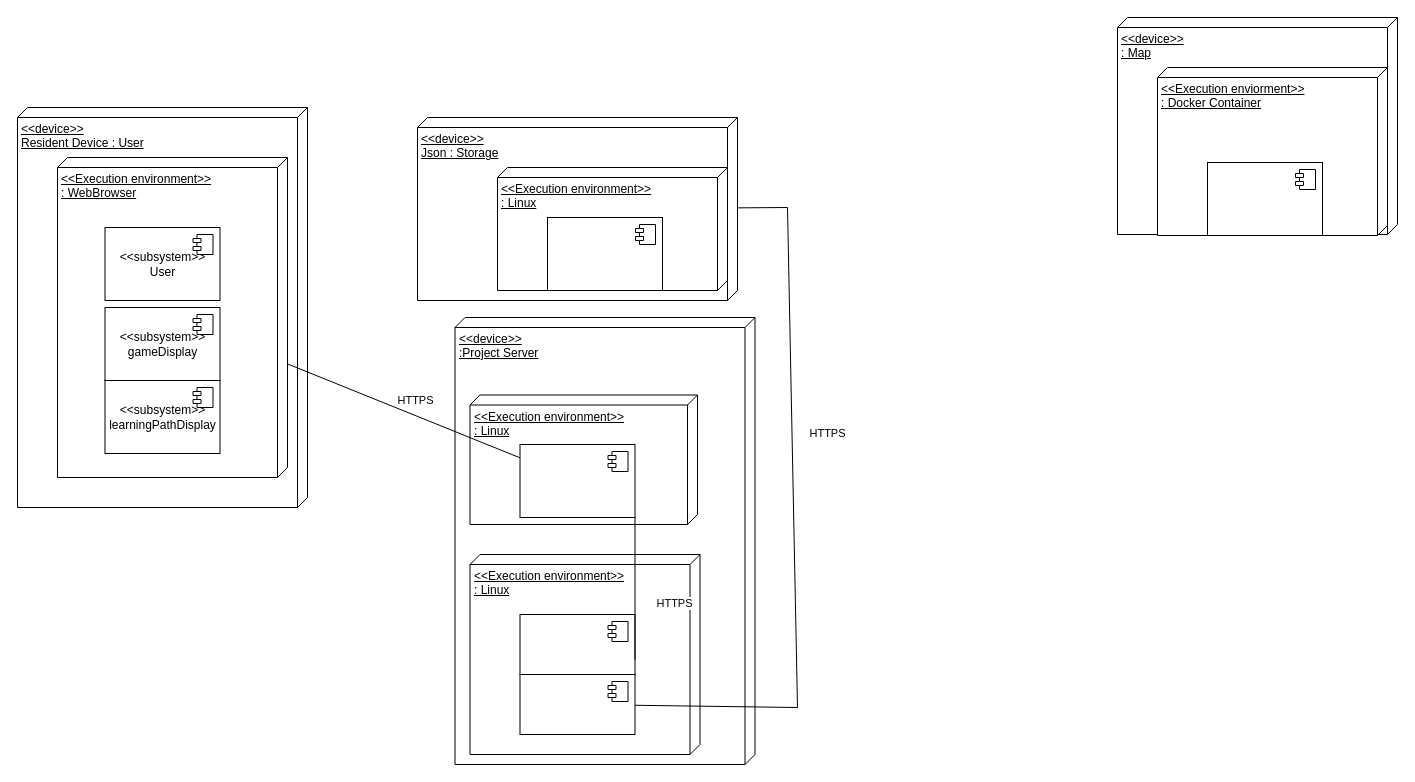
Some shapes in this 1415 by 782 pixel diagram are drawn without their labels. The centre of each missing label's shape, as x and y in pixels:
":GameLogic" belongs at pixel 577 704.
":GameServer" belongs at pixel 577 481.
"<<subsystem>> Feedback" belongs at pixel 1264 199.
"<<subsystem>> Storage" belongs at pixel 604 253.
"REST: API" belongs at pixel 577 644.
